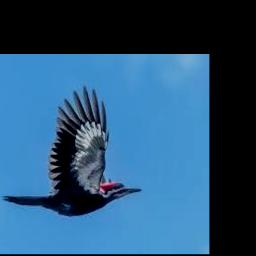Woodpecker: (1, 85, 142, 216)
